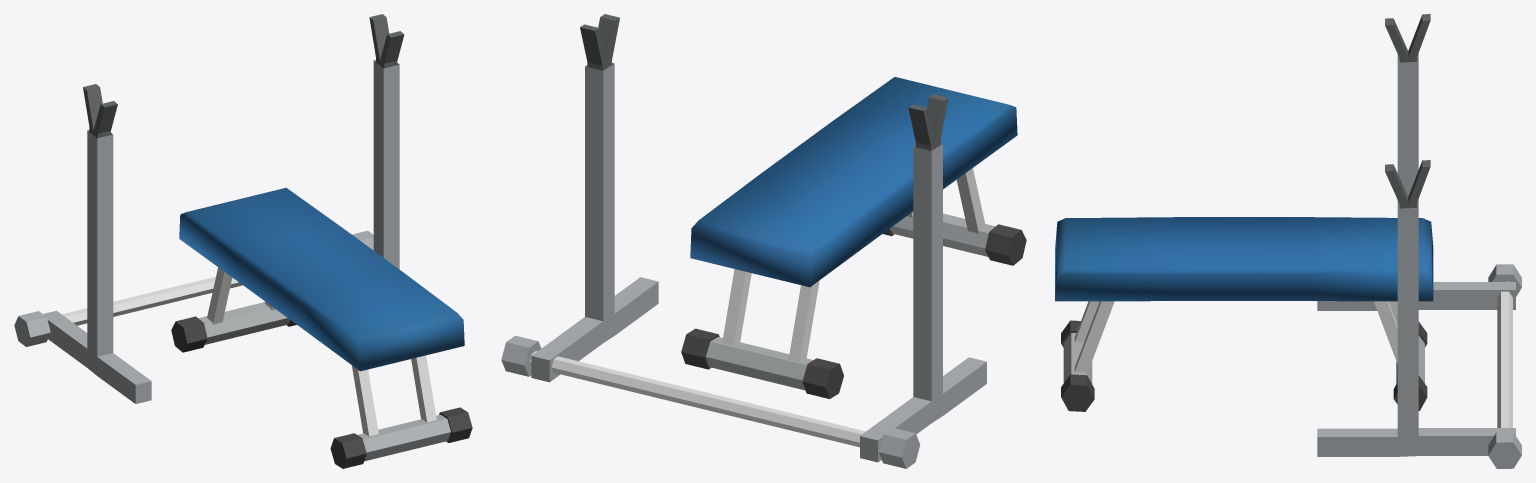
File: barbell_chair.glb
3 renders of one model, left to right at view 1: azimuth 30°, elevation 25°; view 2: azimuth 150°, elevation 25°; view 3: azimuth 270°, elevation 25°, orthographic. The views are drawn at different scales.
Parts seen in each view (by area): view 1: GymEquipments_11_GymEquipments_SG_0; view 2: GymEquipments_11_GymEquipments_SG_0; view 3: GymEquipments_11_GymEquipments_SG_0.
Boxes of the visible parts, x1,y1,x2,y2 form: GymEquipments_11_GymEquipments_SG_0: (14,14,472,468); GymEquipments_11_GymEquipments_SG_0: (501,14,1026,468); GymEquipments_11_GymEquipments_SG_0: (1055,14,1521,468).
Bounding box in the file's own units: 0.7753 × 0.5876 × 0.8587.
1 material, 1 textured.
